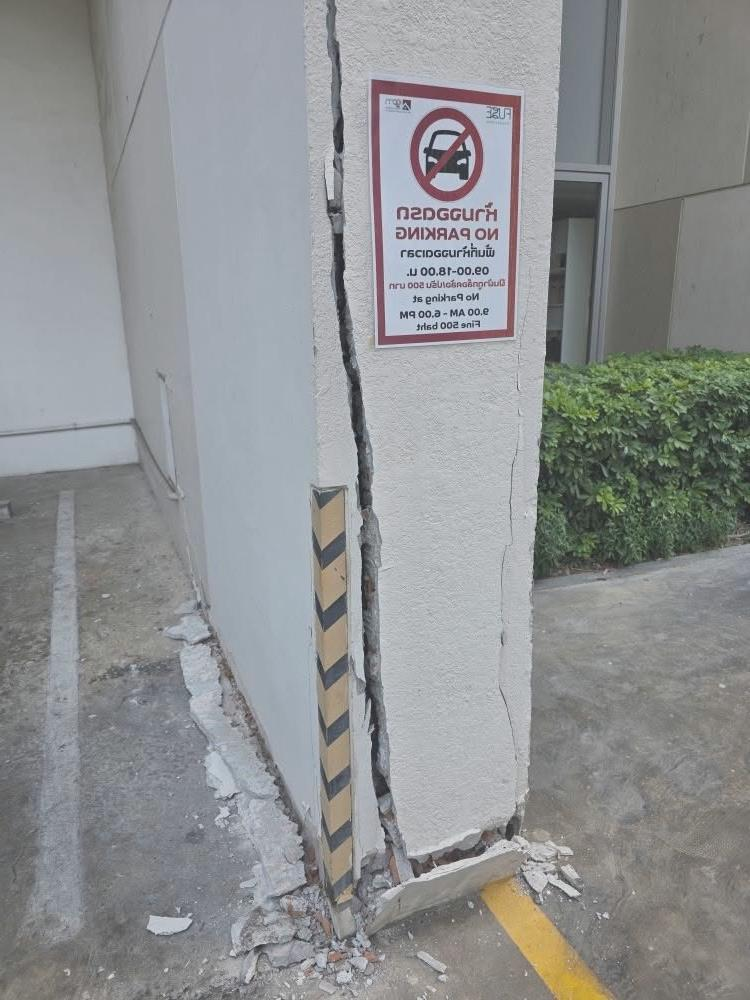High: (301, 1, 528, 924)
